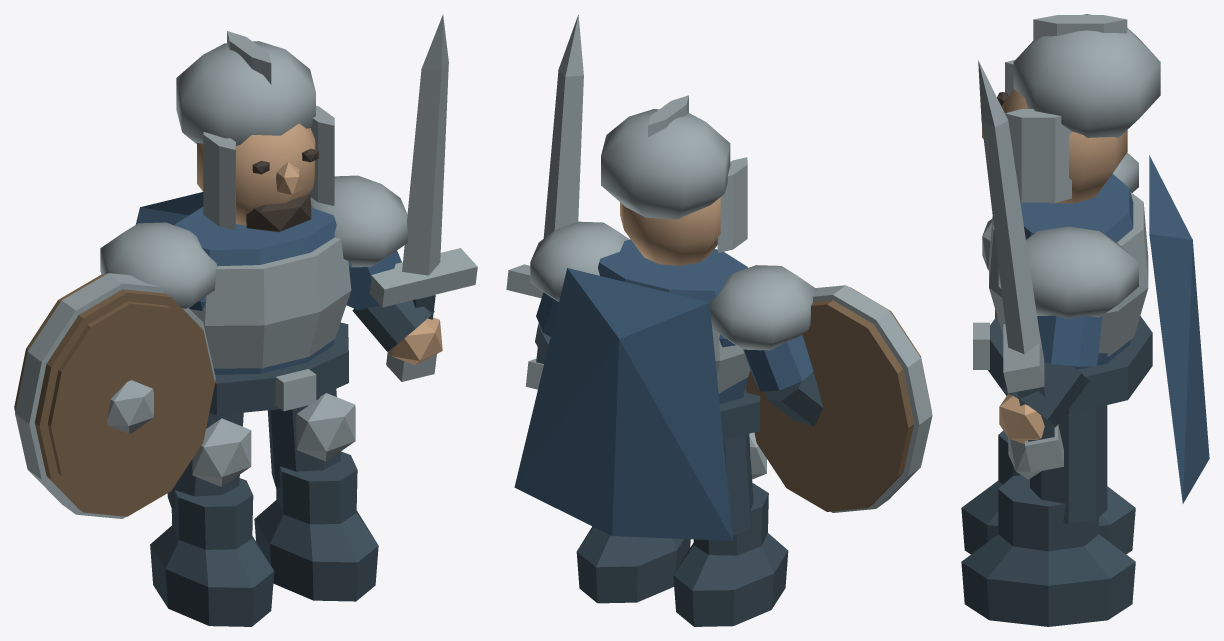
The model's file is wanderer.glb.
3 renders of one model, left to right at view 1: azimuth 30°, elevation 25°; view 2: azimuth 150°, elevation 25°; view 3: azimuth 270°, elevation 25°, orthographic. The views are drawn at different scales.
Parts seen in each view (by area): view 1: Knee plate, Turned leather boot, Round shield, Fitted tunic, Face, Eye; view 2: Fitted tunic, Knee plate, Turned leather boot, Round shield, Face; view 3: Knee plate, Turned leather boot, Fitted tunic, Face.
Boxes of the visible parts, bbox=[...] form: Knee plate: bbox=[15, 14, 477, 518]; Turned leather boot: bbox=[150, 295, 435, 626]; Round shield: bbox=[14, 274, 214, 516]; Fitted tunic: bbox=[135, 192, 401, 374]; Face: bbox=[197, 123, 442, 365]; Eye: bbox=[246, 148, 318, 232]; Fitted tunic: bbox=[514, 239, 813, 540]; Knee plate: bbox=[506, 14, 932, 512]; Turned leather boot: bbox=[535, 323, 823, 626]; Round shield: bbox=[745, 287, 931, 511]; Face: bbox=[620, 197, 720, 265]; Knee plate: bbox=[973, 14, 1160, 479]; Turned leather boot: bbox=[961, 316, 1152, 626]; Fitted tunic: bbox=[1020, 155, 1209, 503]; Face: bbox=[982, 89, 1127, 444].
Size of the model in its own units: 1.62 by 1.95 by 0.74.
